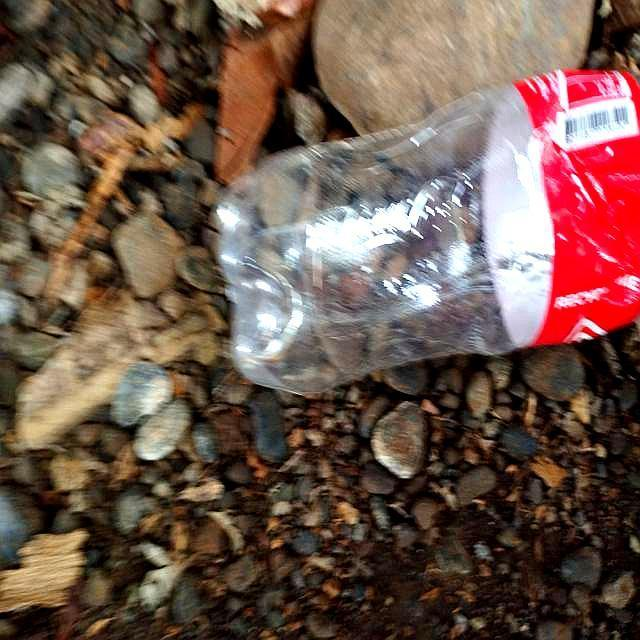Non-biodegradable: (211, 65, 640, 395)
